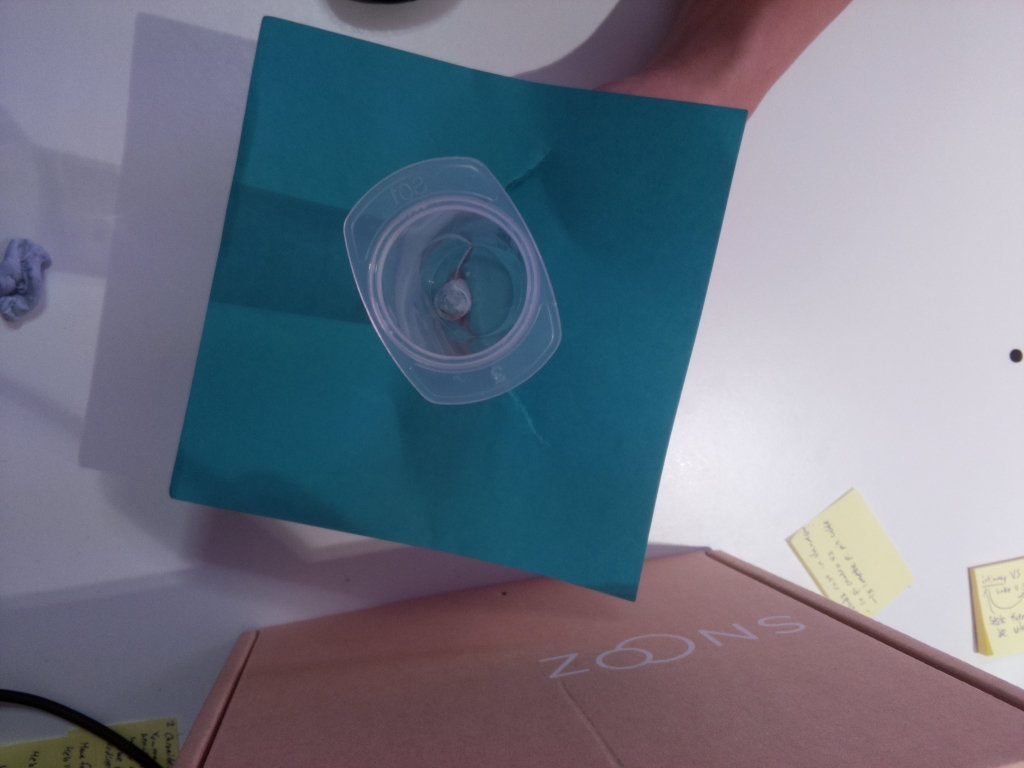clean: (341, 149, 568, 415)
